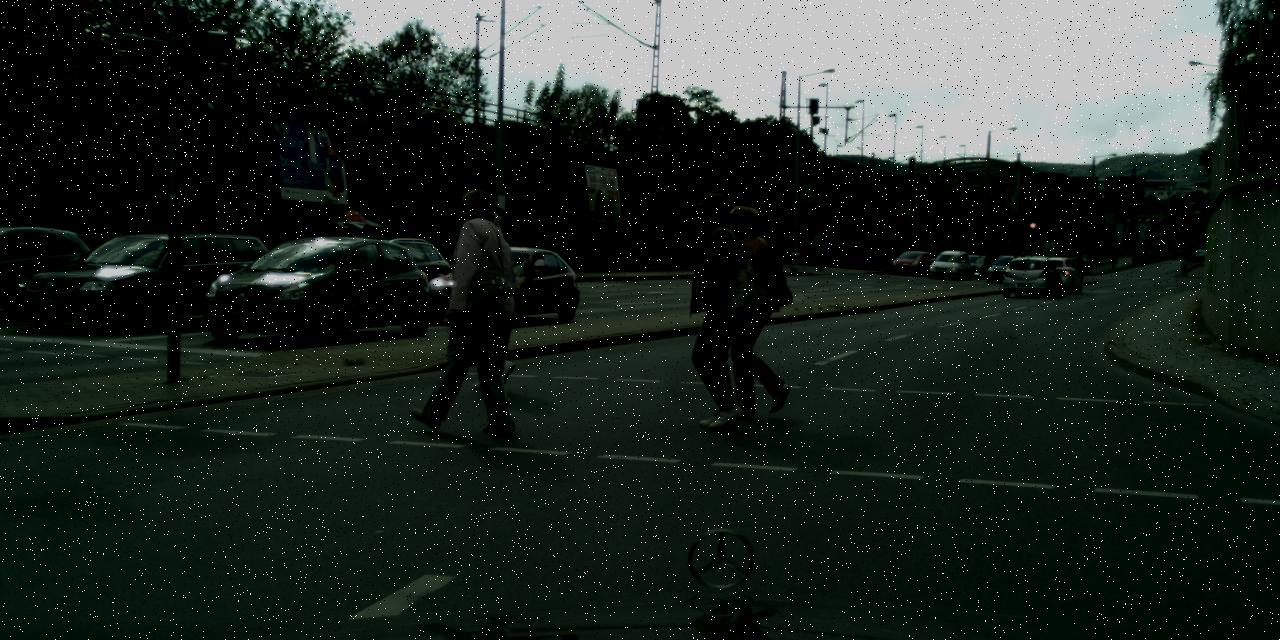ped: (424, 190, 522, 431), (669, 192, 767, 430), (707, 205, 793, 416), (452, 204, 528, 388), (1014, 251, 1028, 287), (1008, 252, 1022, 288), (1075, 254, 1091, 264), (1082, 275, 1084, 276)
